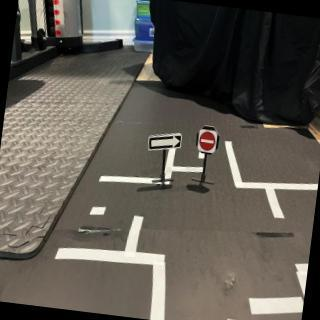sign_noentry: (197, 130, 220, 156)
sign_oneway_right: (147, 130, 184, 156)
